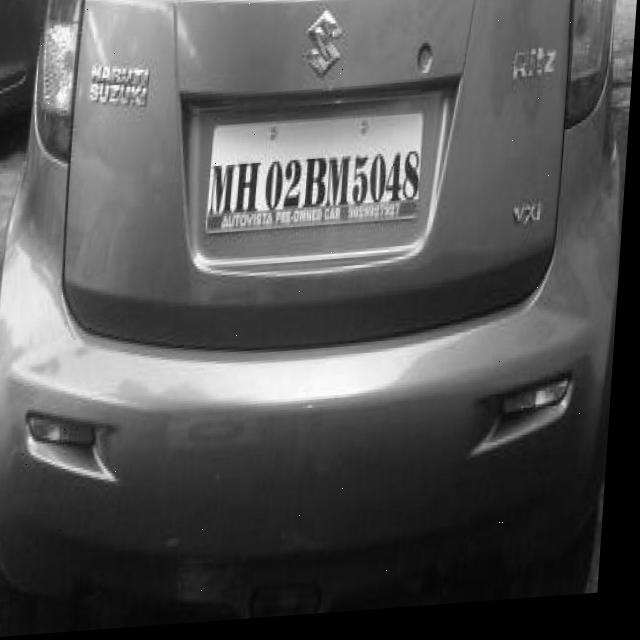car: (206, 114, 431, 245)
